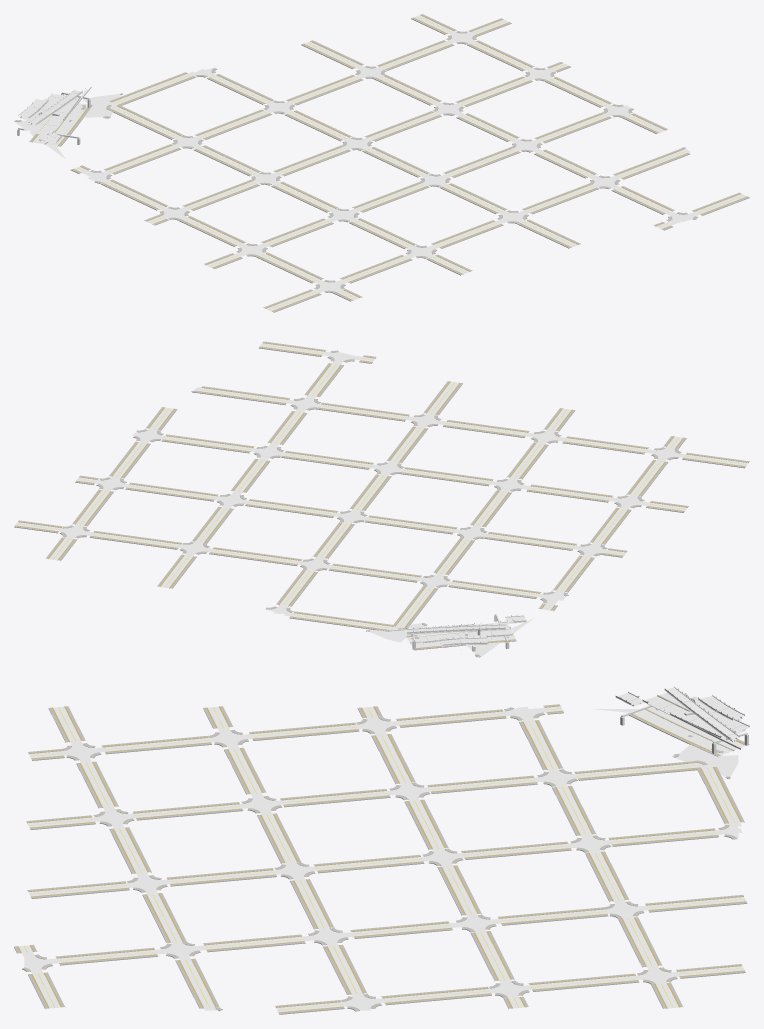
File: roads_-2_1.gltf
3 views of the same model, one above another, from view 1: azimuth 30°, elevation 25°; view 2: azimuth 150°, elevation 25°; view 3: azimuth 270°, elevation 25° (orthographic). The views are drawn at different scales.
Visible parts, largest first — view 1: roads_-2_1_SH_wet_asphalt, roads_-2_1_SH_sidewalk, roads_-2_1_Road_Tactile_Strip, roads_-2_1_SH_kerb, roads_-2_1_SH_road_marking_yellow, roads_-2_1_SH_concrete_pier, roads_-2_1_SH_road_marking_white; view 2: roads_-2_1_SH_wet_asphalt, roads_-2_1_SH_sidewalk, roads_-2_1_Road_Tactile_Strip, roads_-2_1_SH_kerb, roads_-2_1_SH_road_marking_white, roads_-2_1_SH_concrete_pier, roads_-2_1_SH_road_marking_yellow, roads_-2_1_SH_concrete_barrier; view 3: roads_-2_1_SH_wet_asphalt, roads_-2_1_SH_sidewalk, roads_-2_1_Road_Tactile_Strip, roads_-2_1_SH_kerb, roads_-2_1_SH_road_marking_white, roads_-2_1_SH_road_marking_yellow, roads_-2_1_SH_concrete_pier, roads_-2_1_SH_concrete_barrier.
Part boxes in pixels (x1,y1,x2,y2): roads_-2_1_SH_wet_asphalt: (14,15,746,311); roads_-2_1_SH_sidewalk: (15,14,749,312); roads_-2_1_Road_Tactile_Strip: (31,14,747,311); roads_-2_1_SH_kerb: (14,15,746,310); roads_-2_1_SH_road_marking_yellow: (40,18,744,309); roads_-2_1_SH_concrete_pier: (17,91,90,144); roads_-2_1_SH_road_marking_white: (19,18,729,306); roads_-2_1_SH_wet_asphalt: (15,343,748,657); roads_-2_1_SH_sidewalk: (14,341,749,657); roads_-2_1_Road_Tactile_Strip: (15,342,748,648); roads_-2_1_SH_kerb: (15,342,748,656); roads_-2_1_SH_road_marking_white: (18,343,744,645); roads_-2_1_SH_concrete_pier: (406,613,526,651); roads_-2_1_SH_road_marking_yellow: (17,345,746,643); roads_-2_1_SH_concrete_barrier: (389,615,526,645); roads_-2_1_SH_wet_asphalt: (19,687,748,1012); roads_-2_1_SH_sidewalk: (14,704,749,1014); roads_-2_1_Road_Tactile_Strip: (17,705,746,1012); roads_-2_1_SH_kerb: (18,706,745,1012); roads_-2_1_SH_road_marking_white: (19,689,747,1008); roads_-2_1_SH_road_marking_yellow: (24,696,744,1010); roads_-2_1_SH_concrete_pier: (615,687,749,754); roads_-2_1_SH_concrete_barrier: (615,686,749,749).
Size of what is drawn, in the model's own units: 532 by 16.75 by 528.
